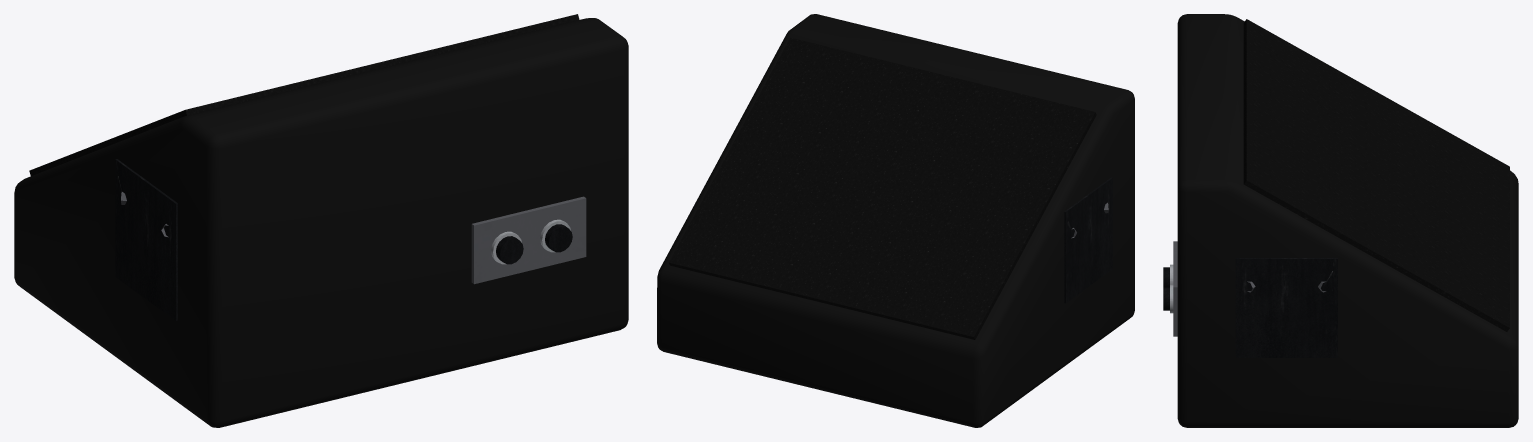
File: wedge_ex_16.gltf
3 renders of one model, left to right at view 1: azimuth 30°, elevation 25°; view 2: azimuth 150°, elevation 25°; view 3: azimuth 270°, elevation 25°, orthographic. The views are drawn at different scales.
Parts seen in each view (by area): view 1: wedge_ex_16; view 2: wedge_ex_16; view 3: wedge_ex_16.
Boxes of the visible parts, x1,y1,x2,y2 form: wedge_ex_16: [14, 14, 628, 427]; wedge_ex_16: [657, 14, 1134, 427]; wedge_ex_16: [1163, 14, 1518, 427].
Bounding box in the file's own units: 0.6188 × 0.412 × 0.521.
Materials: 6 (6 with a texture image).
